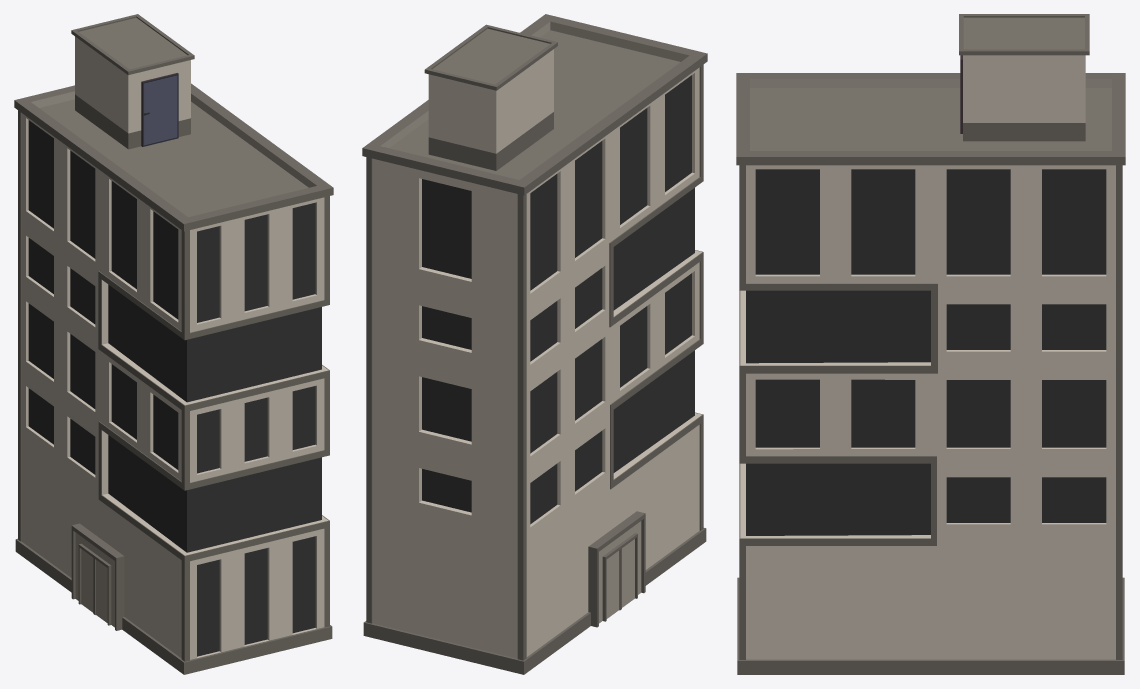
The model's file is building05_color02.fbx.
3 views of the same model, side by side, from view 1: azimuth 30°, elevation 25°; view 2: azimuth 150°, elevation 25°; view 3: azimuth 270°, elevation 25° (orthographic). The views are drawn at different scales.
Visible parts, largest first — view 1: building05_color02; view 2: building05_color02; view 3: building05_color02.
Boxes of the visible parts, box(x1,y1,x2,y2) form: building05_color02: box(14, 14, 333, 674); building05_color02: box(362, 14, 707, 674); building05_color02: box(736, 14, 1125, 674).
Size of the model in its own units: 644 by 2073 by 1218.
